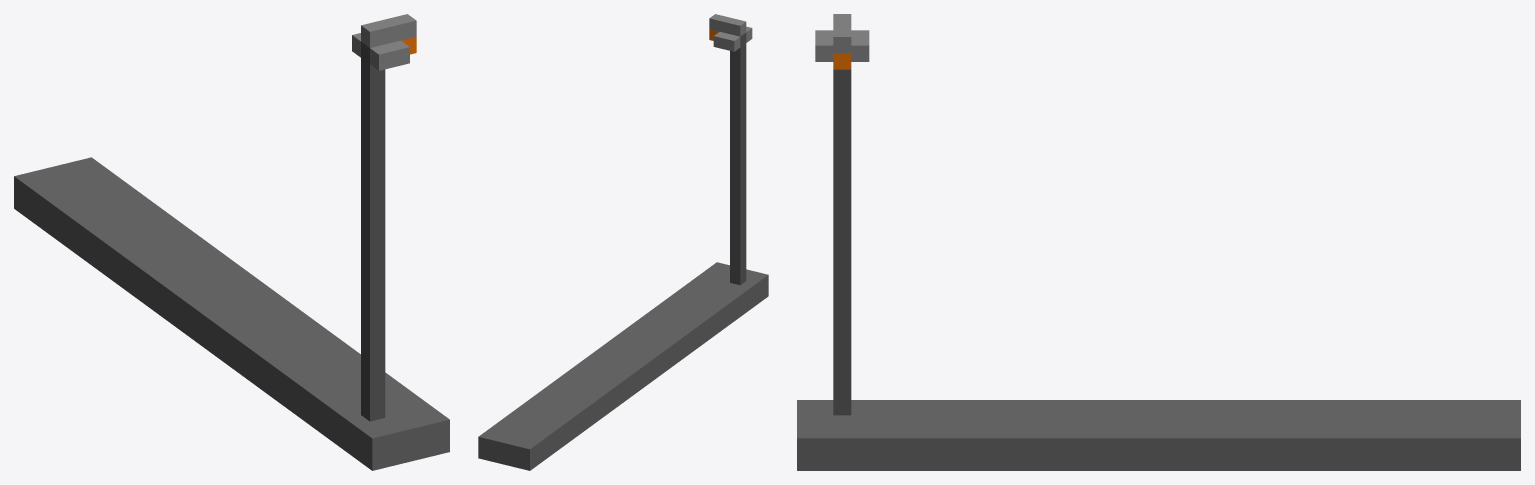
Rendered from town_model-2.obj.
3 renders of one model, left to right at view 1: azimuth 30°, elevation 25°; view 2: azimuth 150°, elevation 25°; view 3: azimuth 270°, elevation 25°, orthographic. The views are drawn at different scales.
Visible parts, largest first — view 1: town_model-2; view 2: town_model-2; view 3: town_model-2.
Part boxes in pixels (bbox=[...]): town_model-2: bbox=[14, 14, 449, 470]; town_model-2: bbox=[478, 14, 768, 470]; town_model-2: bbox=[797, 14, 1520, 470].
Bounding box in the file's own units: 5 × 26 × 40.
Materials: 1 (1 with a texture image).
